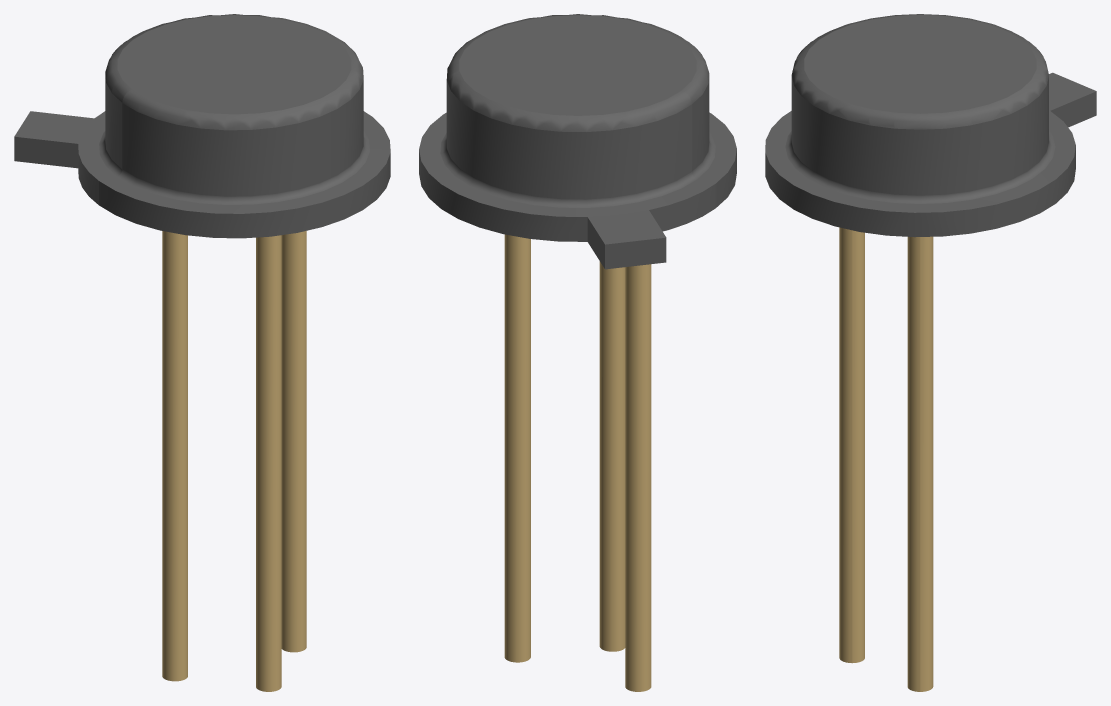
3 views of the same model, side by side, from view 1: azimuth 30°, elevation 25°; view 2: azimuth 150°, elevation 25°; view 3: azimuth 270°, elevation 25° (orthographic). The views are drawn at different scales.
Parts seen in each view (by area): view 1: 0.16666666666666666_0.16666666666666666_0.16666666666666666_, 0.75_0.5_0.25_0.9; view 2: 0.16666666666666666_0.16666666666666666_0.16666666666666666_, 0.75_0.5_0.25_0.9; view 3: 0.16666666666666666_0.16666666666666666_0.16666666666666666_, 0.75_0.5_0.25_0.9.
Boxes of the visible parts, x1,y1,x2,y2 form: 0.16666666666666666_0.16666666666666666_0.16666666666666666_: (14, 14, 390, 238); 0.75_0.5_0.25_0.9: (162, 231, 306, 691); 0.16666666666666666_0.16666666666666666_0.16666666666666666_: (419, 14, 736, 269); 0.75_0.5_0.25_0.9: (504, 234, 651, 691); 0.16666666666666666_0.16666666666666666_0.16666666666666666_: (765, 14, 1096, 237); 0.75_0.5_0.25_0.9: (839, 227, 933, 691).
Size of the model in its own units: 0.6186 by 1.22 by 0.618.
